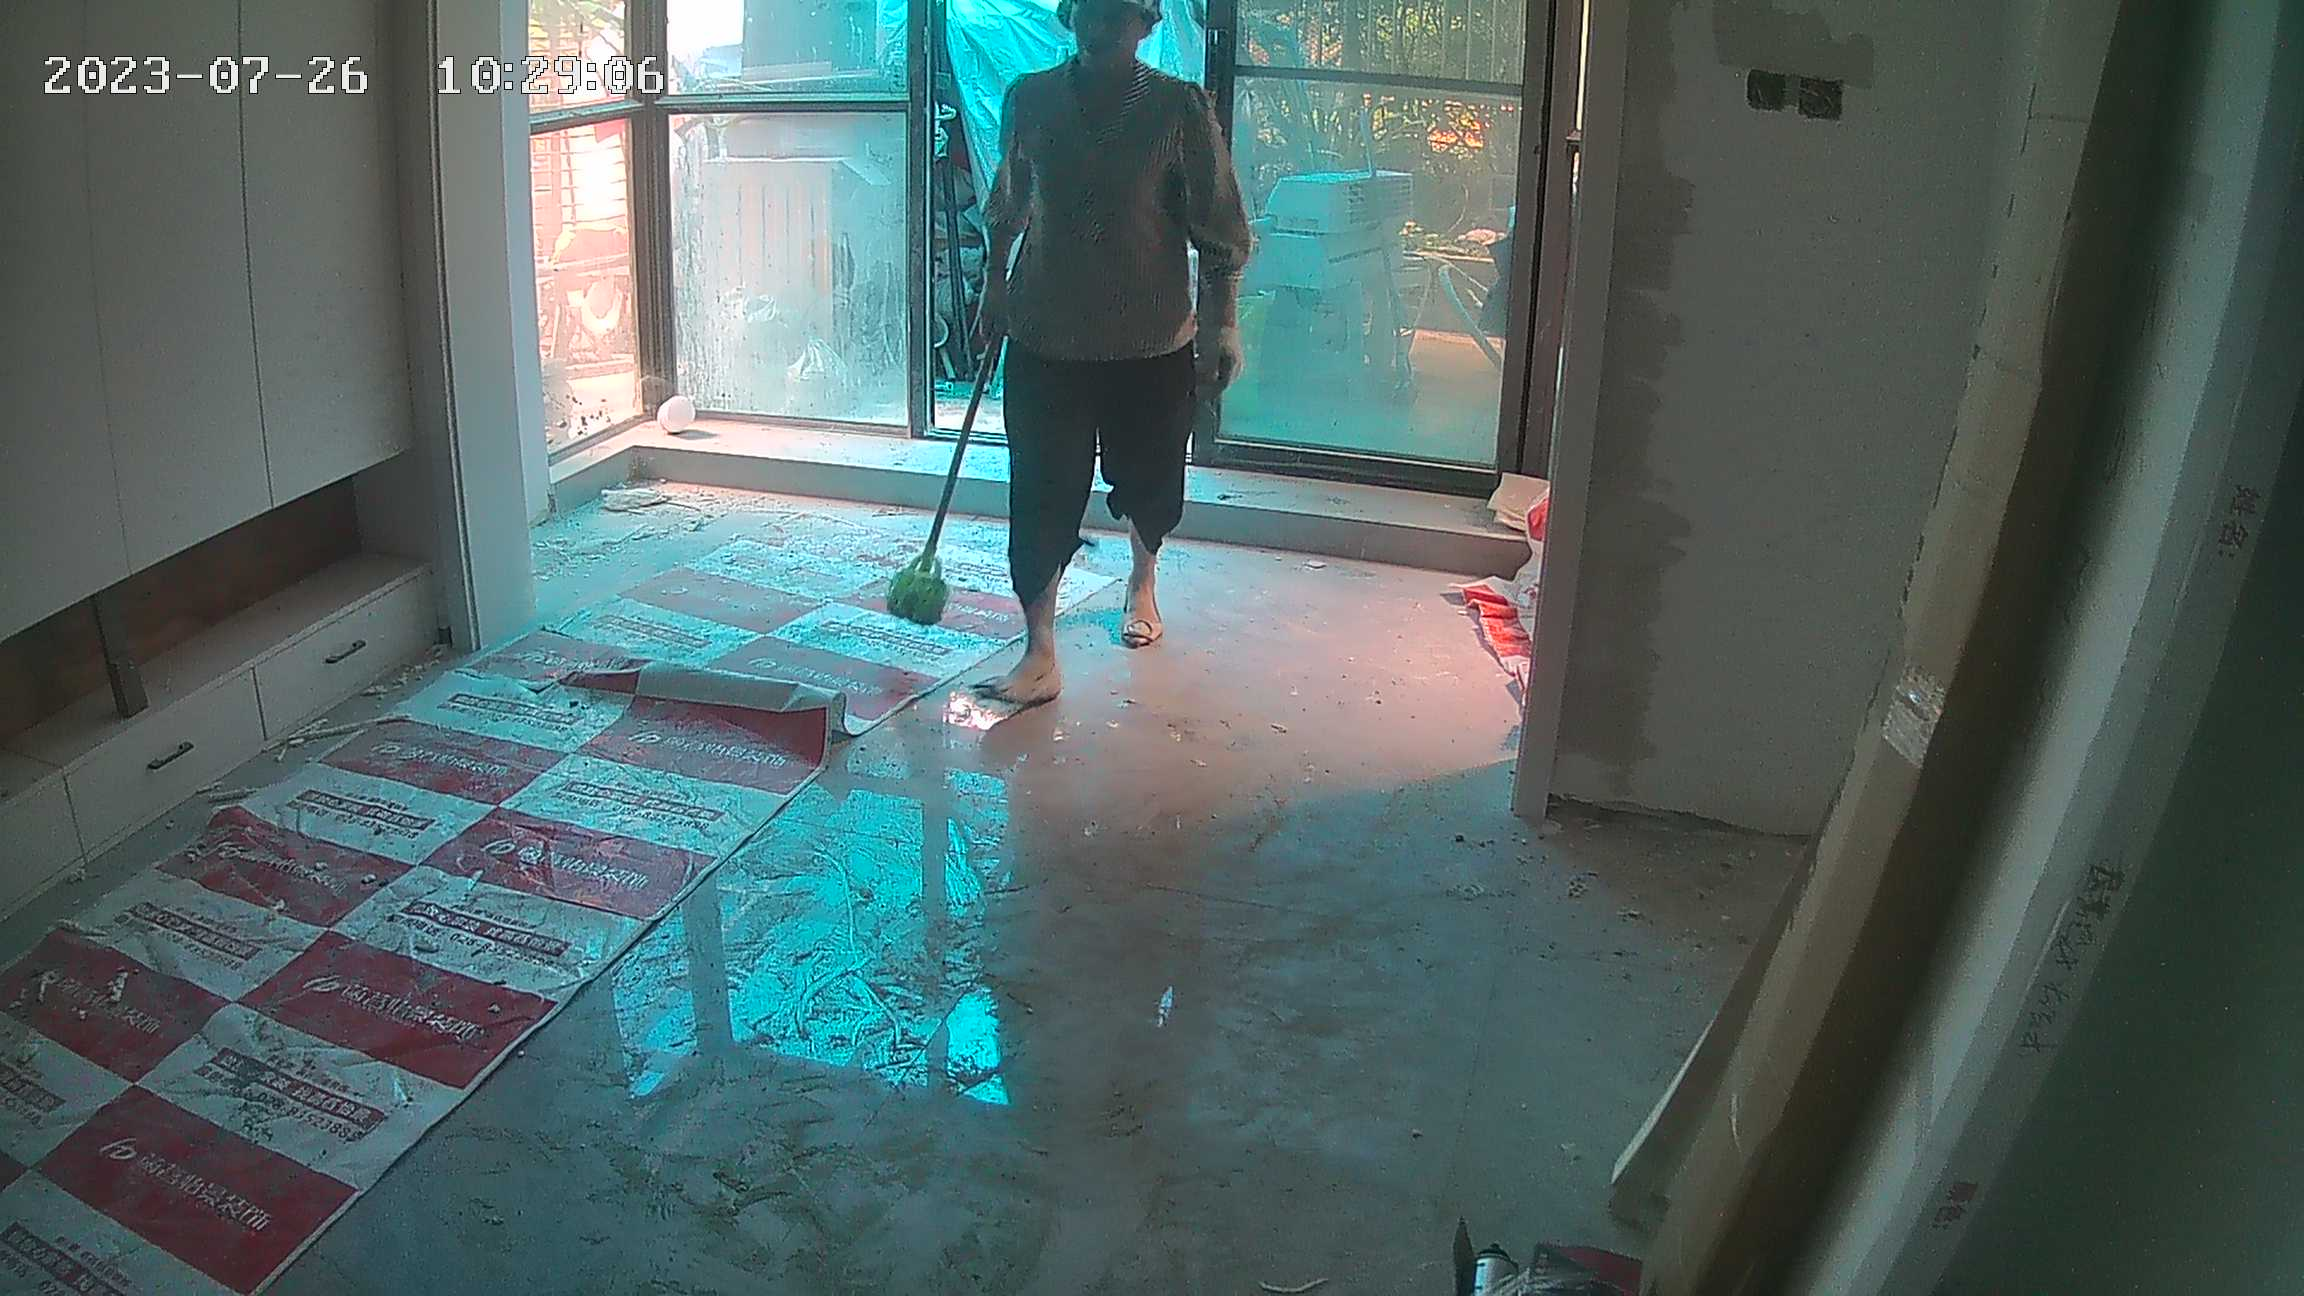people: (976, 1, 1253, 725)
window: (555, 1, 1525, 488)
